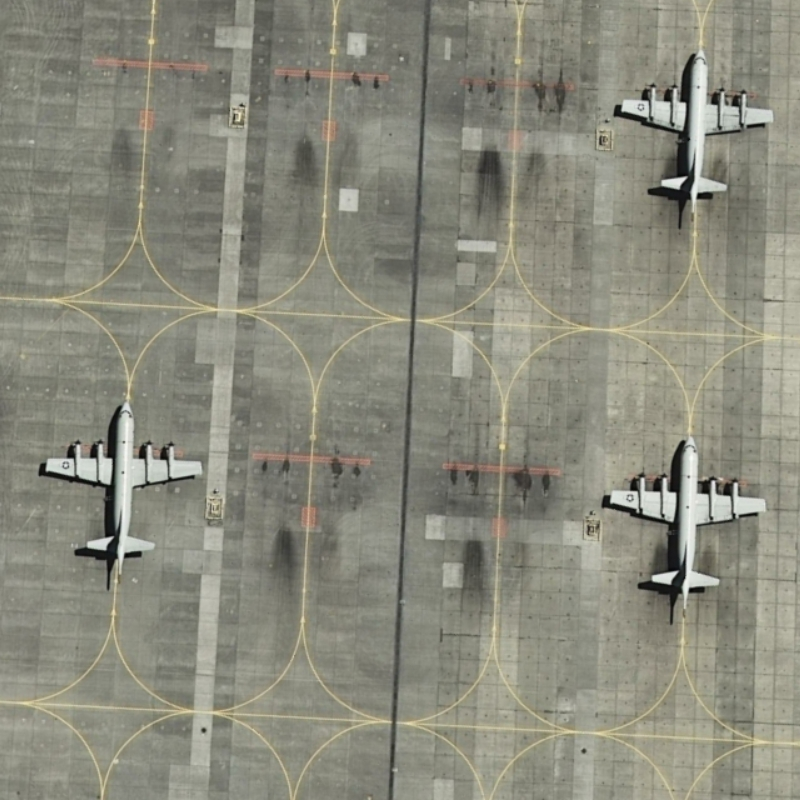A9: (597, 428, 773, 631), (35, 394, 210, 588), (610, 41, 782, 228)
